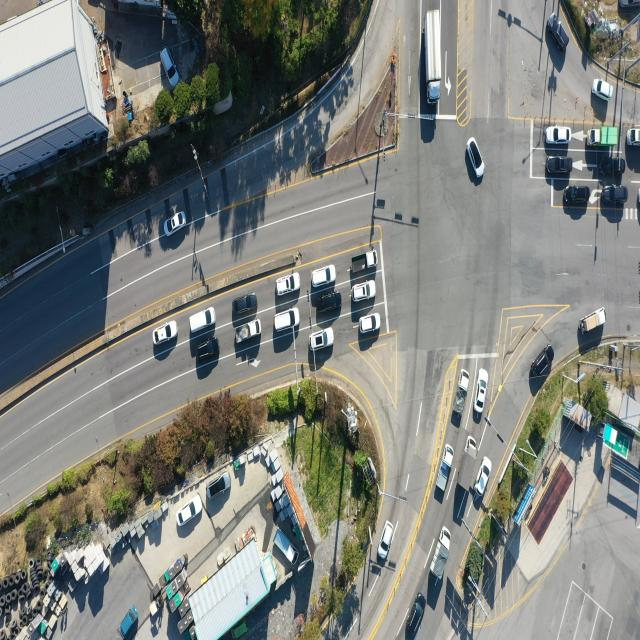car: (408, 591, 426, 639), (530, 343, 554, 377), (548, 12, 569, 49), (466, 138, 484, 180), (189, 307, 216, 334), (177, 496, 201, 526), (274, 310, 300, 335), (477, 456, 493, 496), (161, 46, 177, 84), (379, 520, 394, 560), (155, 321, 179, 345), (310, 329, 335, 352), (476, 368, 489, 412), (208, 475, 230, 501), (277, 274, 301, 297), (234, 294, 259, 316), (195, 340, 221, 361), (312, 266, 336, 288), (318, 294, 342, 316), (598, 158, 624, 178), (352, 281, 376, 302), (547, 157, 573, 176), (602, 184, 628, 203), (566, 187, 590, 207), (165, 212, 185, 236), (547, 127, 572, 146), (358, 313, 380, 334), (592, 78, 613, 100), (619, 0, 639, 9)
medium_truck: (426, 9, 443, 104)
small_truck: (458, 437, 477, 495), (433, 525, 453, 579), (275, 529, 299, 569), (438, 444, 456, 494), (452, 372, 469, 416), (581, 306, 606, 334), (350, 252, 378, 276), (586, 128, 618, 149), (233, 320, 260, 344), (118, 610, 136, 640), (627, 129, 640, 148)
